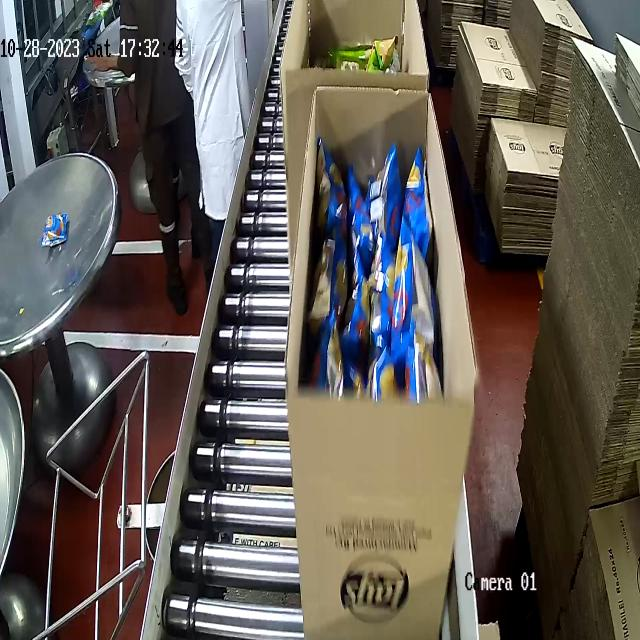PAPRIKA: (312, 138, 451, 400)
